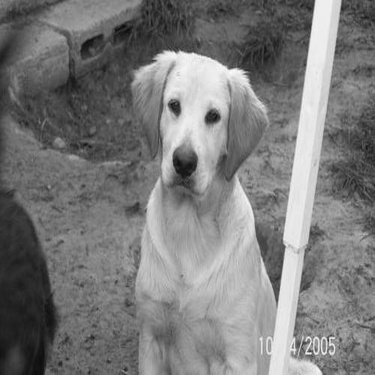dog: (115, 46, 327, 370), (1, 186, 62, 370)
